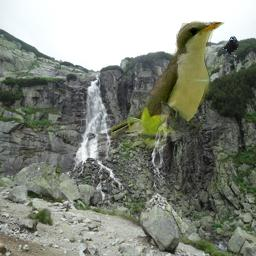Crow: (220, 35, 239, 61)
Cuckoo: (111, 18, 225, 153)
